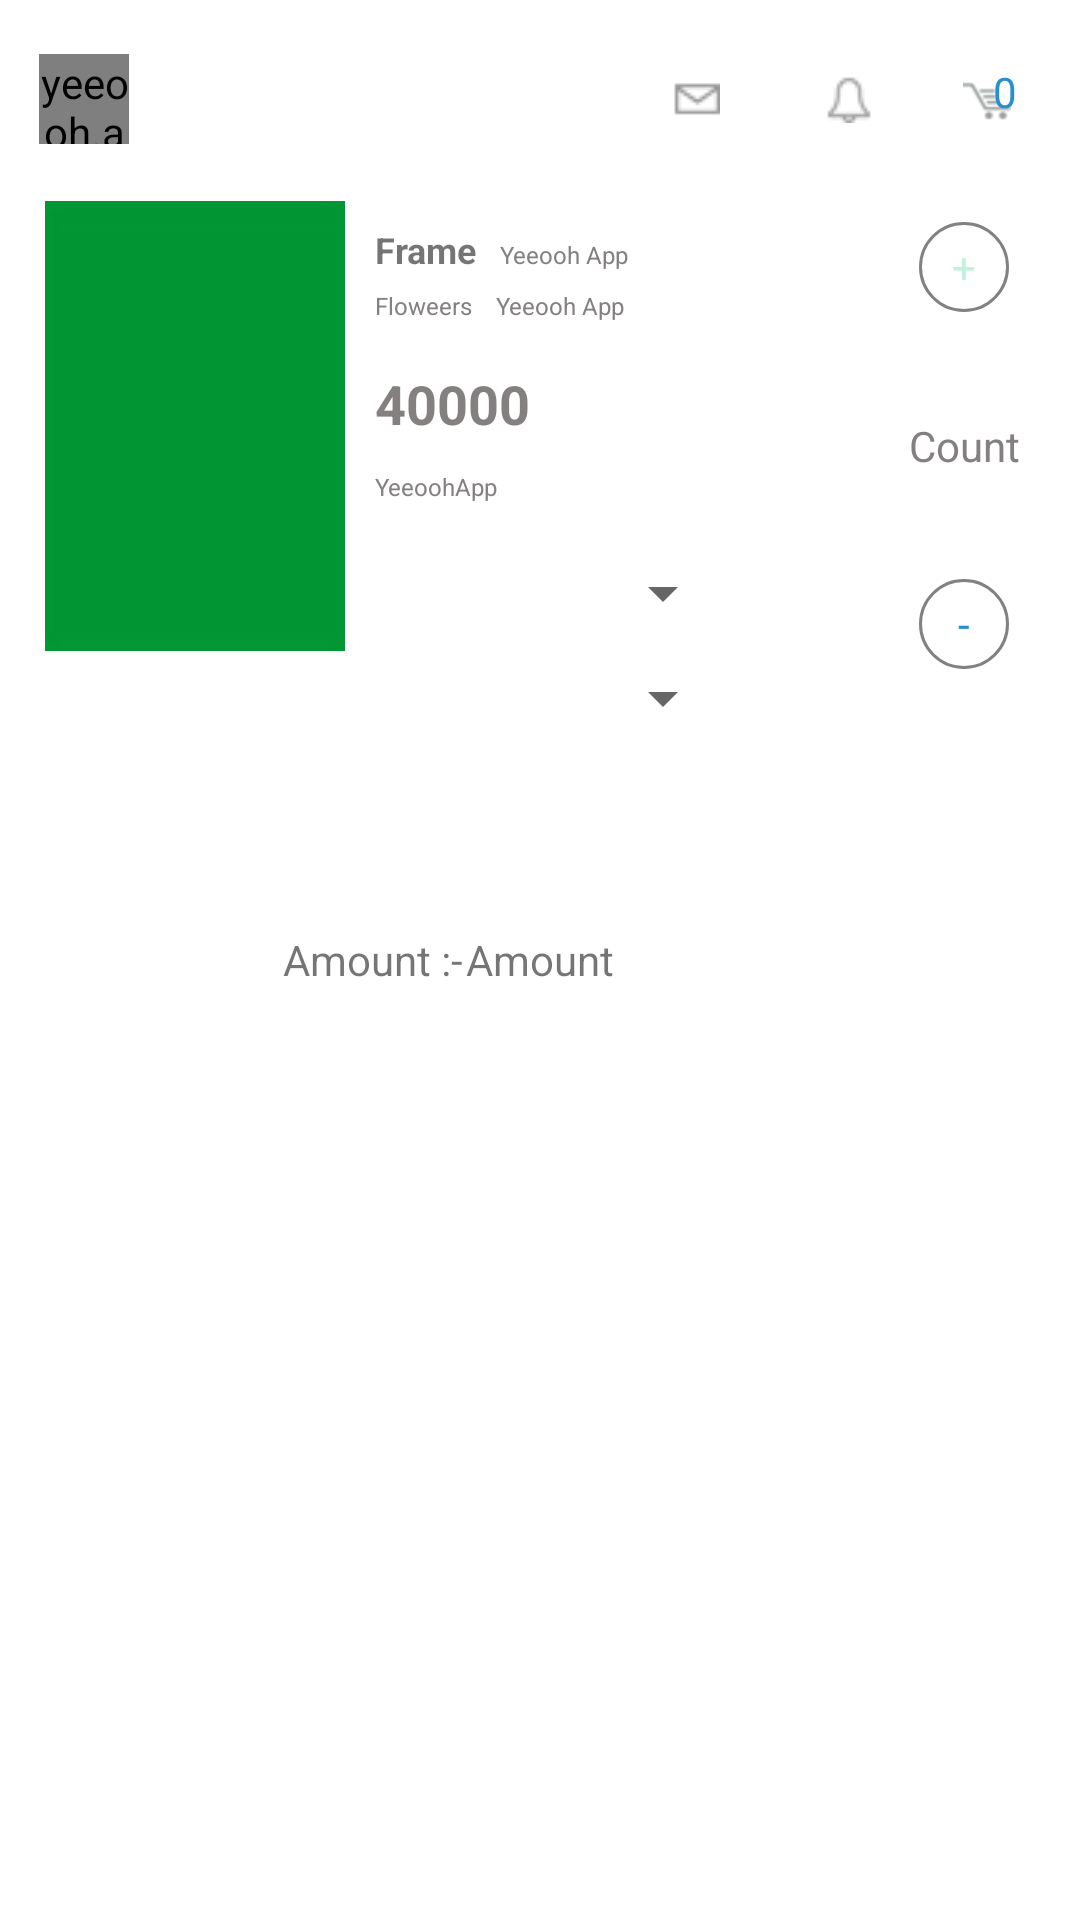

Where to tap for icons on this 1080*1920 app screen, as point (x, y):
cart: point (987, 98)
inbox: point (697, 99)
notifications: point (849, 100)
